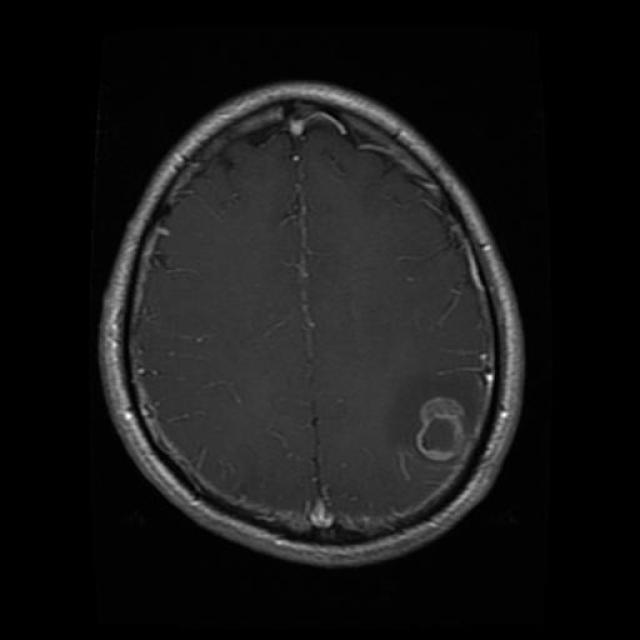glioma: (406, 381, 464, 475)
